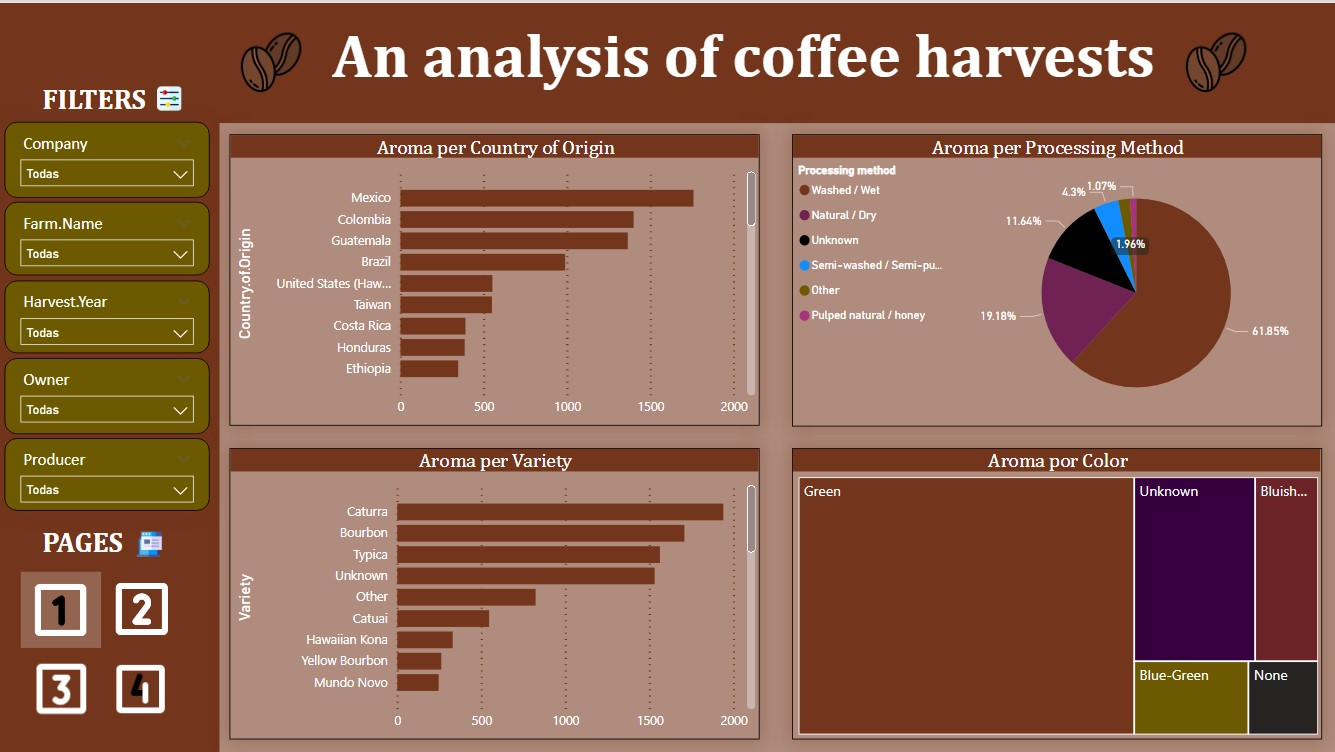

Layout of this report page (visuals, bound fields, positions):
{"tool":"powerbi","page":{"name":"Página 1","canvas":[1280,720],"ordinal":0},"visuals":[{"type":"shape","box":[117.4,0,1162.9,115],"z":0},{"type":"shape","box":[0,0,212.5,720],"z":1000},{"type":"image","box":[1096.1,21.5,137.3,71.6],"z":2000},{"type":"textbox","box":[315.2,9.6,806,96.7],"z":3000},{"type":"image","box":[193.4,21.5,137.3,71.6],"z":4000},{"type":"textbox","box":[37.9,70.4,122.2,48.4],"z":5000},{"type":"image","box":[148,71.7,32.7,38.7],"z":6000},{"type":"barChart","title":"Aroma per Country of Origin","fields":{"Category":["coffees.Country.of.Origin"],"Y":["Sum(coffees.Aroma)"]},"box":[221.6,125.4,506.3,278.2],"z":7000},{"type":"pieChart","title":"Aroma per Processing Method","fields":{"Category":["coffees.Processing.Method"],"Y":["Sum(coffees.Aroma)"]},"box":[758.9,125.4,506.3,279.4],"z":8000},{"type":"barChart","title":"Aroma per Variety","fields":{"Y":["Sum(coffees.Aroma)"],"Category":["coffees.Variety"]},"box":[221.6,425.1,506.3,278.2],"z":9000},{"type":"treemap","fields":{"Group":["coffees.Color"],"Values":["Sum(coffees.Aroma)"]},"box":[759,425,506,278],"z":10000},{"type":"slicer","fields":{"Values":["coffees.Company"]},"box":[7.2,113.7,195.8,72.8],"z":11000},{"type":"slicer","fields":{"Values":["coffees.Farm.Name"]},"box":[7.2,190.1,195.8,70.4],"z":12000},{"type":"slicer","fields":{"Values":["coffees.Harvest.Year"]},"box":[7.2,265.6,195.8,69.3],"z":13000},{"type":"slicer","fields":{"Values":["coffees.Owner"]},"box":[7.2,339.3,195.8,72.8],"z":14000},{"type":"slicer","fields":{"Values":["coffees.Producer"]},"box":[7.2,415.8,195.8,69.3],"z":15000},{"type":"textbox","box":[38.2,494.6,102.7,49],"z":16000},{"type":"image","box":[113.4,500.5,63.3,33.4],"z":17000},{"type":"image","box":[22.7,543.5,76.4,72.8],"z":18000},{"type":"image","box":[99.1,542.1,77.6,74],"z":19000},{"type":"image","box":[23.9,619.7,75.2,70.4],"z":20000},{"type":"image","box":[97.9,620.9,78.8,69.3],"z":21000}]}

Visuals, with their boxes in screenshot pixels (x1, y1, x2, y2), scaled from the page's 1280x720 canvas onto the 1335x752 screenshot:
shape: select_region(122, 0, 1334, 120)
shape: select_region(0, 0, 222, 751)
image: select_region(1143, 22, 1286, 97)
textbox: select_region(329, 10, 1169, 111)
image: select_region(202, 22, 345, 97)
textbox: select_region(40, 74, 167, 124)
image: select_region(154, 75, 188, 115)
"Aroma per Country of Origin" barChart: select_region(231, 131, 759, 422)
"Aroma per Processing Method" pieChart: select_region(792, 131, 1320, 423)
"Aroma per Variety" barChart: select_region(231, 444, 759, 735)
treemap - coffees.Color x Sum(coffees.Aroma): select_region(792, 444, 1319, 734)
slicer - coffees.Company: select_region(8, 119, 212, 195)
slicer - coffees.Farm.Name: select_region(8, 199, 212, 272)
slicer - coffees.Harvest.Year: select_region(8, 277, 212, 350)
slicer - coffees.Owner: select_region(8, 354, 212, 430)
slicer - coffees.Producer: select_region(8, 434, 212, 507)
textbox: select_region(40, 517, 147, 568)
image: select_region(118, 523, 184, 558)
image: select_region(24, 568, 103, 644)
image: select_region(103, 566, 184, 643)
image: select_region(25, 647, 103, 721)
image: select_region(102, 648, 184, 721)
